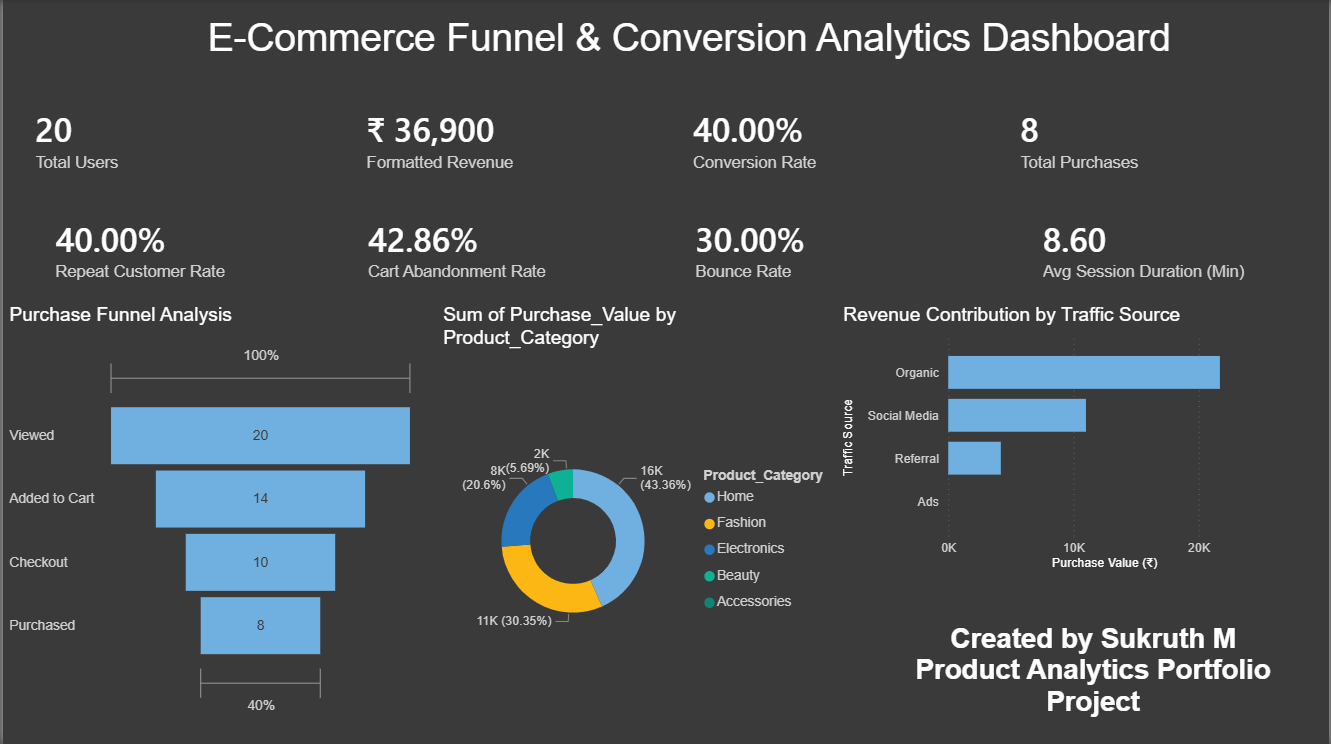

What the dashboard file says about the page in this screenshot:
{"tool":"powerbi","page":{"name":"Page 1","canvas":[1280,720],"ordinal":0},"visuals":[{"type":"cardVisual","fields":{"Data":["Ecommerce_Funnel.Total Users"]},"box":[0,127.2,321.6,102.7],"z":0},{"type":"cardVisual","fields":{"Data":["Ecommerce_Funnel.Total Revenue"]},"box":[320.4,127.2,321.6,102.7],"z":1000},{"type":"cardVisual","fields":{"Data":["Ecommerce_Funnel.Conversion Rate"]},"box":[639.5,127.2,319.2,102.7],"z":2000},{"type":"cardVisual","fields":{"Data":["Ecommerce_Funnel.Cart Abandonment Rate"]},"box":[321.6,229.9,317.9,129.6],"z":3000},{"type":"cardVisual","fields":{"Data":["Ecommerce_Funnel.Total Purchases"]},"box":[953.8,129.6,326.5,102.7],"z":4000},{"type":"cardVisual","fields":{"Data":["Ecommerce_Funnel.Avg Session Duration"]},"box":[953.8,229.9,326.5,129.6],"z":5000},{"type":"cardVisual","fields":{"Data":["Ecommerce_Funnel.Repeat Customer Rate"]},"box":[0,229.9,320.4,129.6],"z":6000},{"type":"cardVisual","fields":{"Data":["Ecommerce_Funnel.Bounce Rate"]},"box":[639.5,229.9,313,129.6],"z":7000},{"type":"funnel","title":"Purchase Funnel Analysis","fields":{"Category":["Funnel_Stages.Column1"],"Y":["Ecommerce_Funnel.Funnel Value"]},"box":[1.2,359.5,402.3,360.7],"z":8000},{"type":"clusteredBarChart","title":"Revenue by Traffic Source","fields":{"Category":["Ecommerce_Funnel.Traffic_Source"],"Y":["Sum(Ecommerce_Funnel.Purchase_Value)"]},"box":[858.4,359.5,421.9,360.7],"z":9000},{"type":"donutChart","fields":{"Category":["Ecommerce_Funnel.Product_Category"],"Y":["Sum(Ecommerce_Funnel.Purchase_Value)"]},"box":[445.1,390.1,386.4,330.2],"z":10000},{"type":"textbox","box":[139.9,10.9,1044.8,72.4],"z":10001}]}

Visuals, with their boxes in screenshot pixels (x1, y1, x2, y2), scaled from the page's 1280x720 canvas onto the 1331x744 screenshot:
cardVisual - Ecommerce_Funnel.Total Users: {"left": 0, "top": 131, "right": 334, "bottom": 238}
cardVisual - Ecommerce_Funnel.Total Revenue: {"left": 333, "top": 131, "right": 668, "bottom": 238}
cardVisual - Ecommerce_Funnel.Conversion Rate: {"left": 665, "top": 131, "right": 997, "bottom": 238}
cardVisual - Ecommerce_Funnel.Cart Abandonment Rate: {"left": 334, "top": 238, "right": 665, "bottom": 371}
cardVisual - Ecommerce_Funnel.Total Purchases: {"left": 992, "top": 134, "right": 1330, "bottom": 240}
cardVisual - Ecommerce_Funnel.Avg Session Duration: {"left": 992, "top": 238, "right": 1330, "bottom": 371}
cardVisual - Ecommerce_Funnel.Repeat Customer Rate: {"left": 0, "top": 238, "right": 333, "bottom": 371}
cardVisual - Ecommerce_Funnel.Bounce Rate: {"left": 665, "top": 238, "right": 990, "bottom": 371}
"Purchase Funnel Analysis" funnel: {"left": 1, "top": 371, "right": 420, "bottom": 743}
"Revenue by Traffic Source" clusteredBarChart: {"left": 893, "top": 371, "right": 1330, "bottom": 743}
donutChart - Ecommerce_Funnel.Product_Category x Sum(Ecommerce_Funnel.Purchase_Value): {"left": 463, "top": 403, "right": 865, "bottom": 743}
textbox: {"left": 145, "top": 11, "right": 1232, "bottom": 86}
